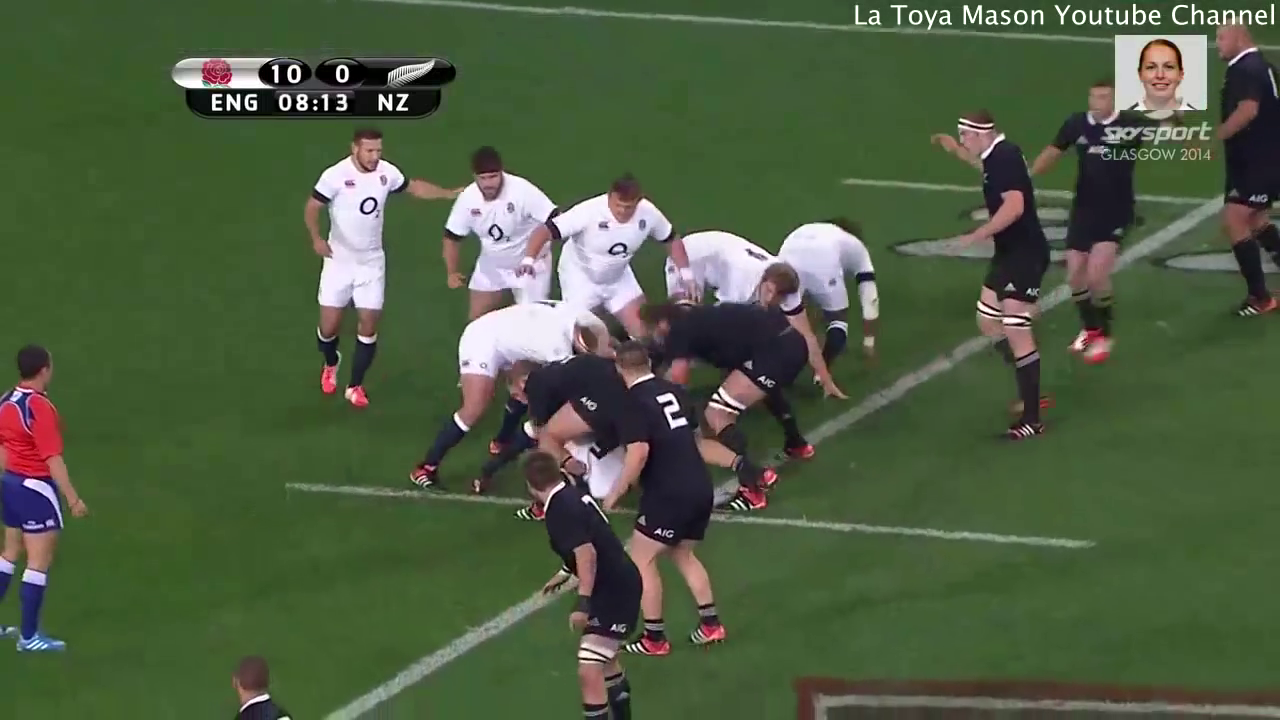player: (919, 108, 1071, 444), (638, 290, 827, 515), (302, 123, 450, 410), (403, 300, 613, 489), (604, 336, 727, 654), (1026, 113, 1169, 371), (510, 449, 645, 720), (1, 333, 93, 660), (426, 139, 561, 301), (1213, 18, 1280, 319), (529, 170, 682, 301), (777, 207, 891, 381), (657, 223, 801, 315), (218, 649, 307, 720)
